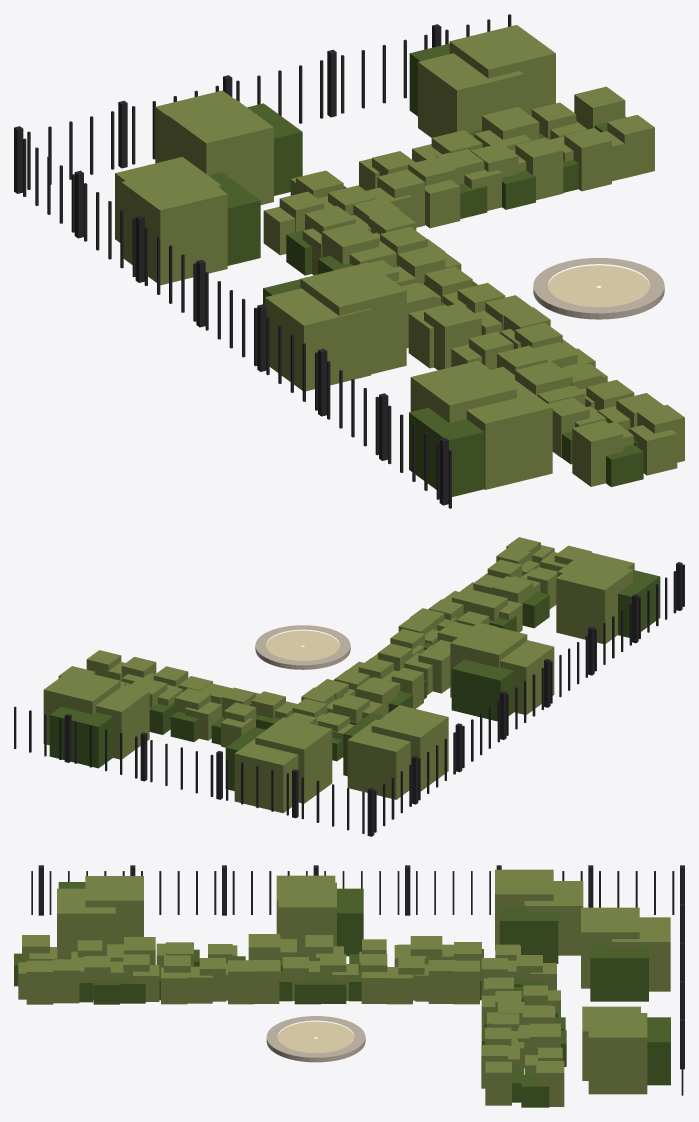
Rendered from chunk_-2_-3.glb.
3 renders of one model, top to bottom at view 1: azimuth 30°, elevation 25°; view 2: azimuth 150°, elevation 25°; view 3: azimuth 270°, elevation 25°, orthographic. The views are drawn at different scales.
Parts seen in each view (by area): view 1: chunk_-2_-3__tree, chunk_-2_-3__feat_garden, chunk_-2_-3__ground; view 2: chunk_-2_-3__tree, chunk_-2_-3__feat_garden, chunk_-2_-3__ground; view 3: chunk_-2_-3__tree, chunk_-2_-3__feat_garden, chunk_-2_-3__ground.
Boxes of the visible parts, x1,y1,x2,y2 form: chunk_-2_-3__tree: (115, 25, 684, 496); chunk_-2_-3__feat_garden: (14, 14, 511, 508); chunk_-2_-3__ground: (533, 258, 664, 319); chunk_-2_-3__tree: (43, 537, 660, 813); chunk_-2_-3__feat_garden: (14, 562, 684, 836); chunk_-2_-3__ground: (255, 625, 350, 669); chunk_-2_-3__tree: (14, 869, 670, 1107); chunk_-2_-3__feat_garden: (31, 865, 684, 1095); chunk_-2_-3__ground: (266, 1016, 365, 1062).
Size of the model in its own units: 12.2 by 1.7 by 18.32.
